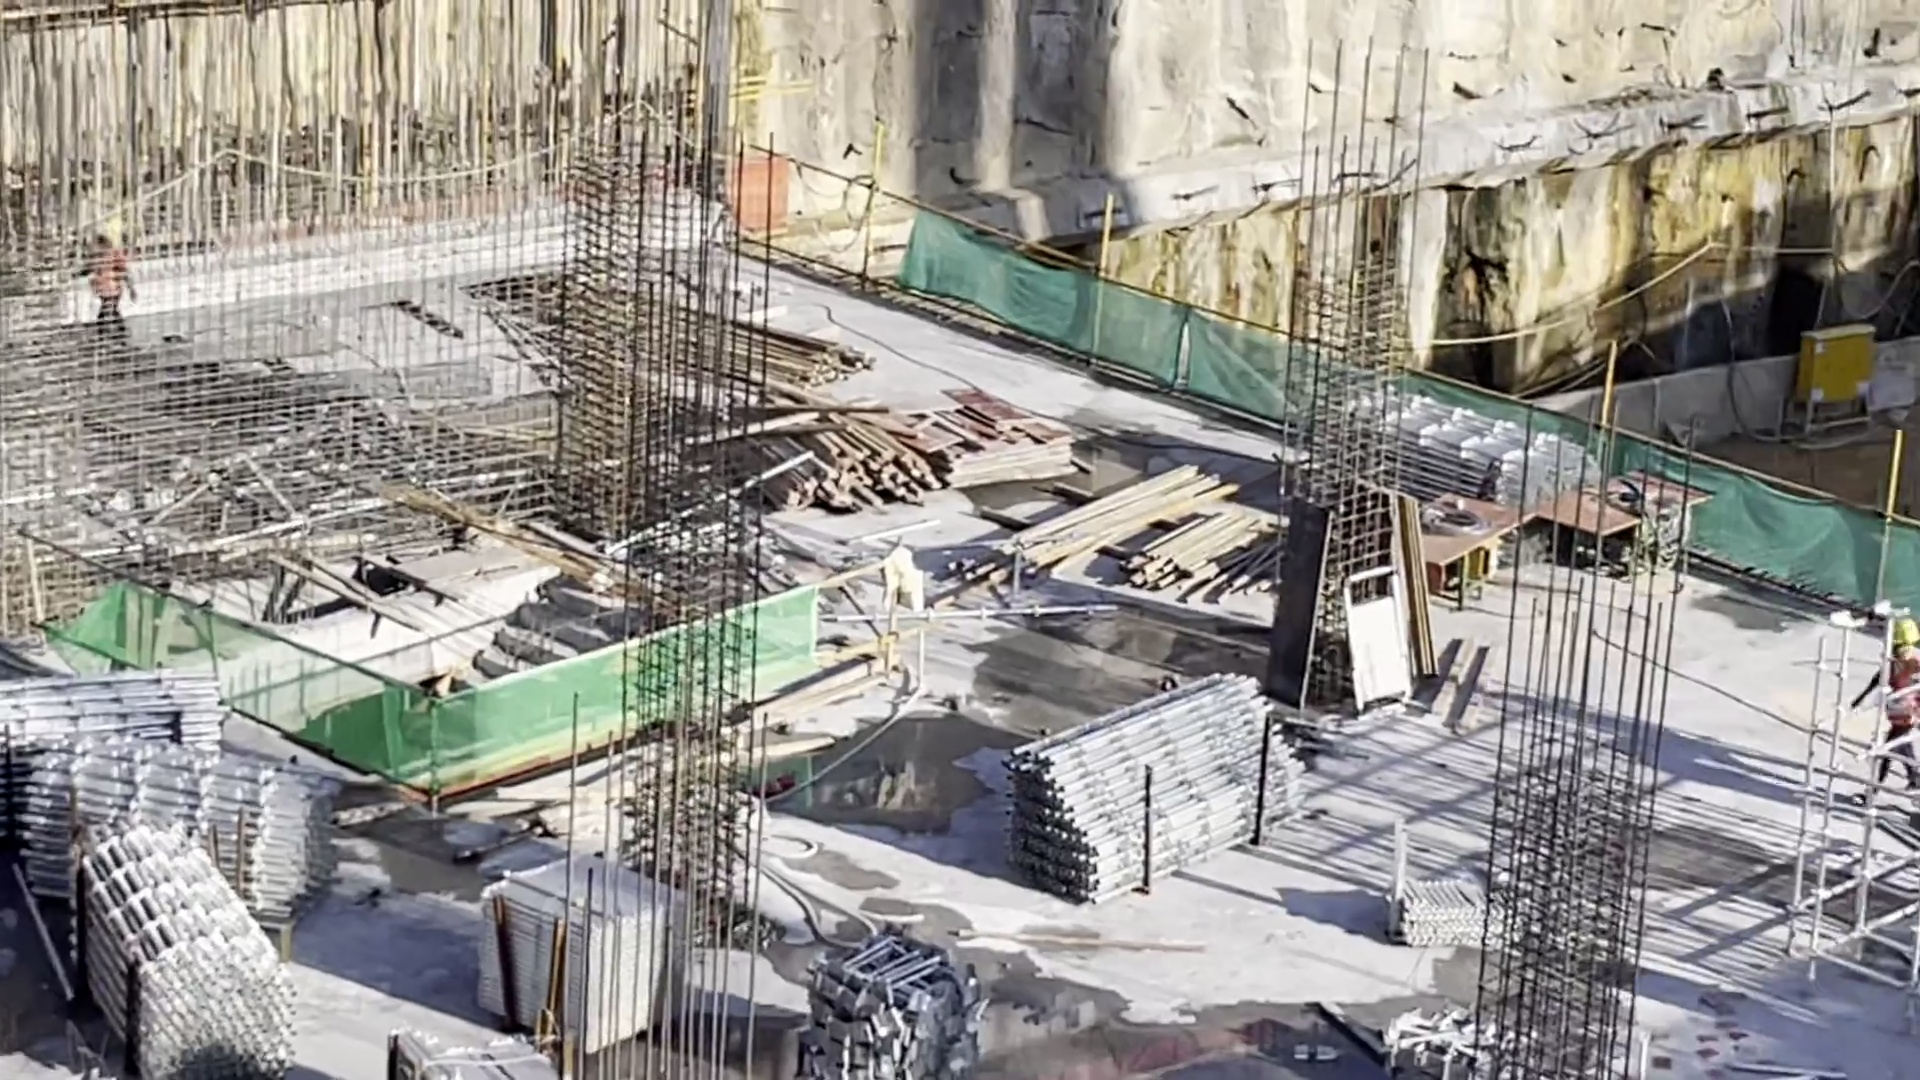board: (911, 396, 1045, 467)
cutter: (1388, 514, 1516, 610), (1556, 478, 1689, 542)
ebox: (1804, 333, 1870, 429)
helmet: (1893, 619, 1919, 644), (98, 225, 117, 246)
person: (1848, 615, 1920, 789), (82, 222, 137, 339)
scaffold: (1029, 680, 1297, 876), (47, 749, 304, 923), (109, 835, 249, 1068), (1325, 403, 1568, 525), (500, 883, 653, 1069), (1, 653, 253, 728), (1391, 864, 1516, 948), (395, 1025, 517, 1080)
vest: (1881, 649, 1920, 729), (94, 251, 132, 298)
wood: (571, 283, 843, 388), (993, 483, 1241, 547), (743, 409, 896, 509), (1124, 528, 1271, 587)
